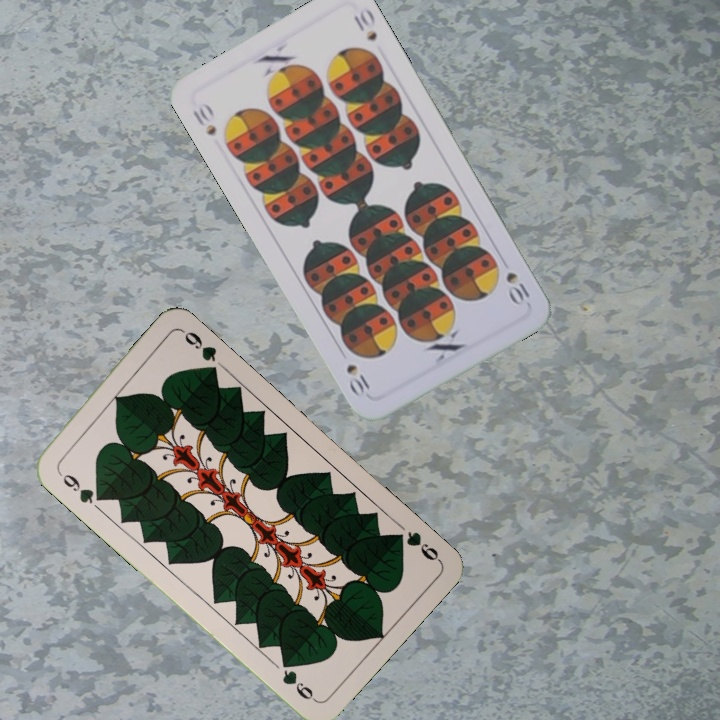G9: (53, 466, 107, 507), (387, 527, 443, 564)
S10: (502, 267, 533, 308), (188, 98, 219, 139)
